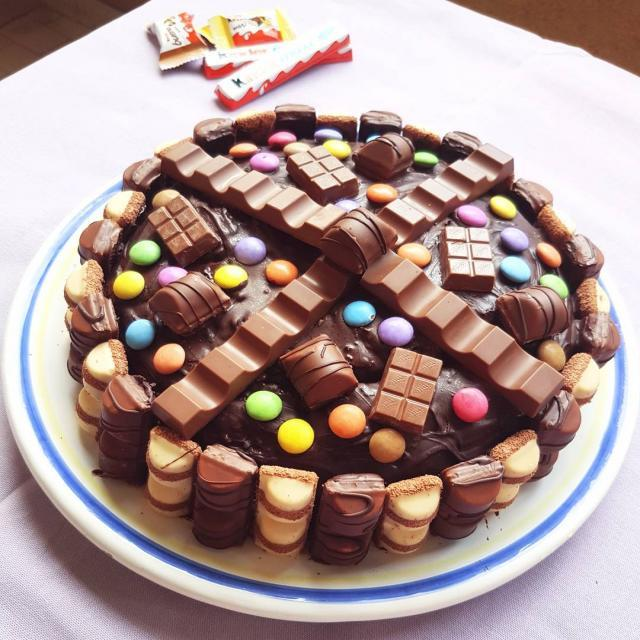Chocolate bar: (212, 25, 350, 108), (146, 13, 207, 76)
Chocolate bar packaged: (151, 255, 357, 445), (361, 243, 565, 423), (163, 143, 339, 249), (378, 141, 515, 243), (185, 442, 257, 553), (274, 329, 358, 412), (367, 344, 441, 434), (323, 471, 387, 569), (254, 466, 318, 563), (436, 460, 501, 552), (142, 274, 234, 330), (320, 204, 392, 273), (495, 288, 577, 348), (383, 475, 437, 561), (356, 130, 421, 183)
